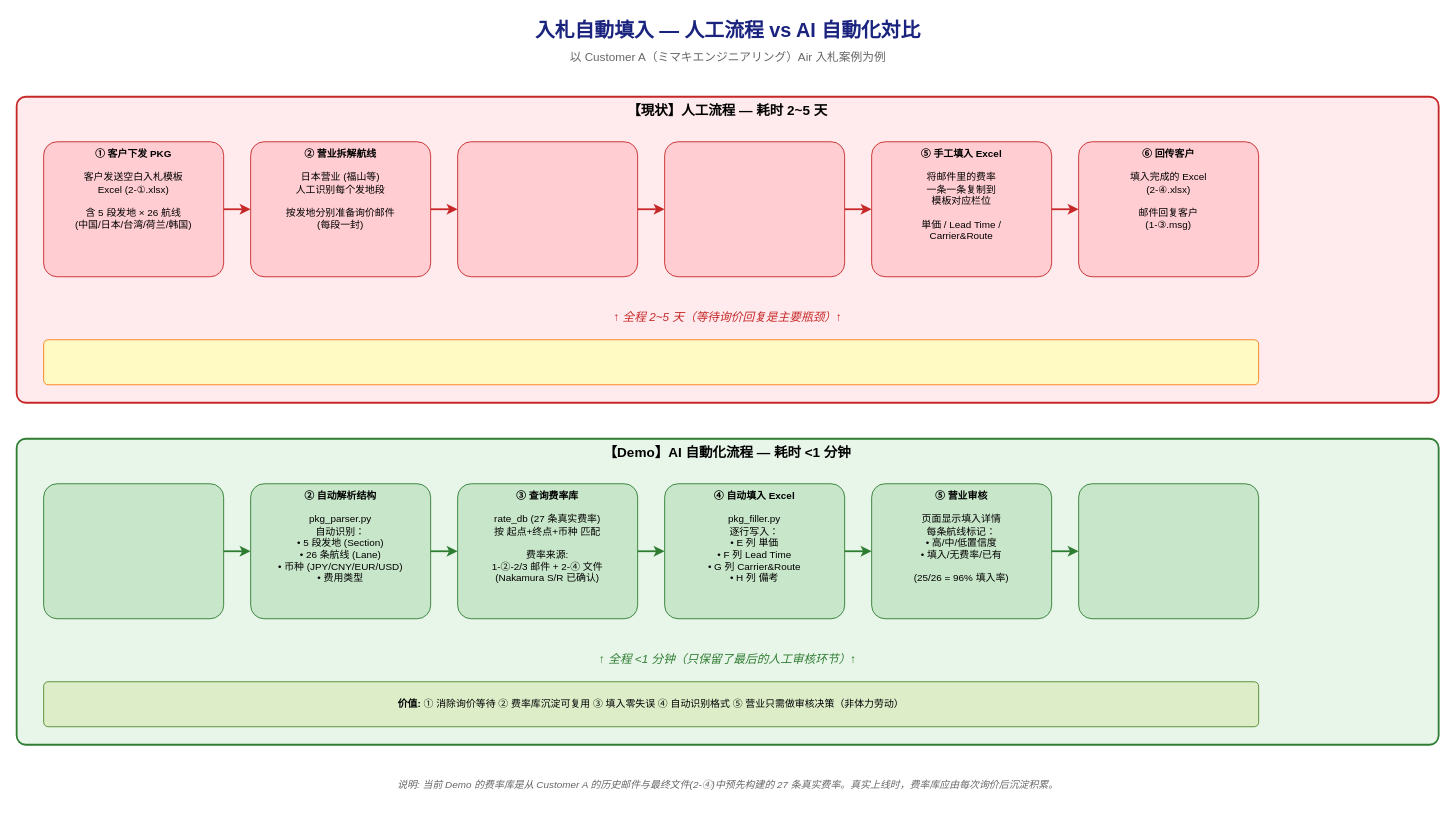
The diagram is 1454 pixels wide and 814 high, and some of its shapes have lost their labels. Each missing label, with the centre of its shape:
"① 上传 PKG 营业拖拽客户发来的 空白模板 (2-①.xlsx) 点击上传 (前端 PkgAutoFill 页面)" belongs at (x=133, y=551).
"③ 各地采购询价 邮件 → 上海购买部 邮件 → 台湾/韩国代理 邮件 → 荷兰代理 (1-②-1/2/3 多轮往返)" belongs at (x=547, y=209).
"④ 回复汇总 Yang Jie 提供成本 Nakamura 确认 S/R (1-②-3.msg) 营业等待各地回复 1~3 个工作日" belongs at (x=754, y=209).
"⑥ 下载&回传 下载 filled_xxx.xlsx 内容与 2-④ 一致 营业检查后 直接回传客户" belongs at (x=1168, y=551).
"痛点: ① 多次邮件往返慢 ② 手工复制易出错 ③ 历史费率未复用 ④ 同一航线重复询价 ⑤ 格式差异需反复人工适配" belongs at (x=651, y=362).
